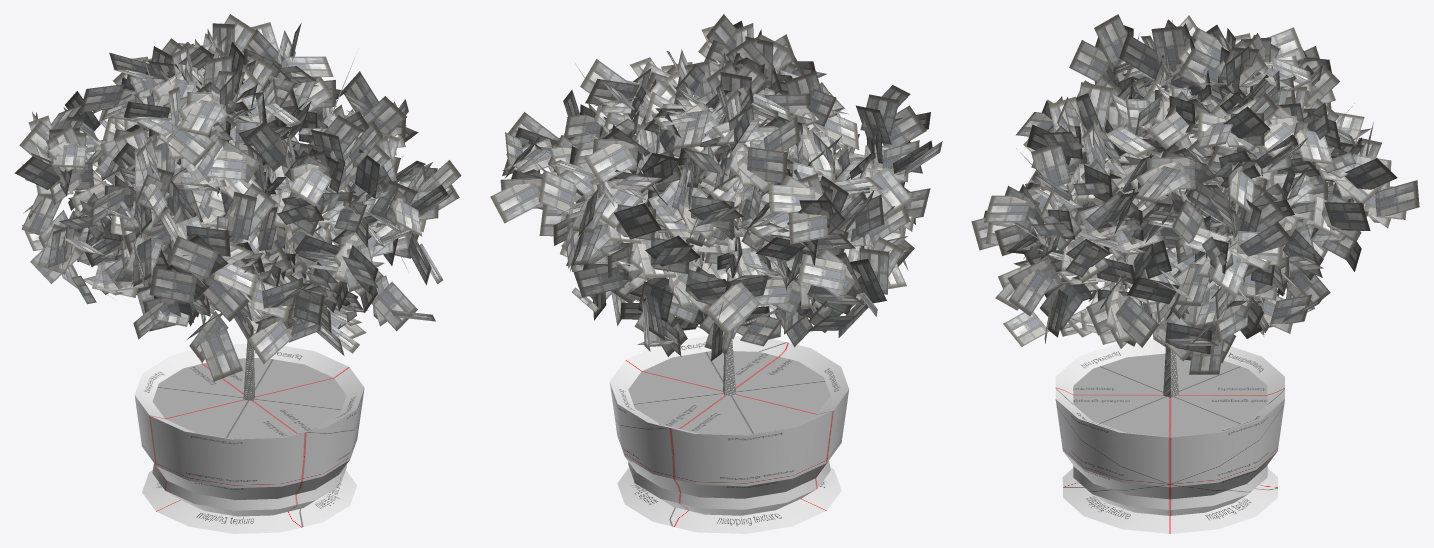
Rendered from D_fbed_b.FBX.
3 views of the same model, side by side, from view 1: azimuth 30°, elevation 25°; view 2: azimuth 150°, elevation 25°; view 3: azimuth 270°, elevation 25° (orthographic). The views are drawn at different scales.
Visible parts, largest first — view 1: D_Bed_b; view 2: D_Bed_b; view 3: D_Bed_b.
Part boxes in pixels (x1,y1,x2,y2): D_Bed_b: [14, 14, 461, 533]; D_Bed_b: [490, 14, 942, 533]; D_Bed_b: [971, 14, 1419, 533].
Size of the model in its own units: 8.2 by 8.18 by 9.17.
